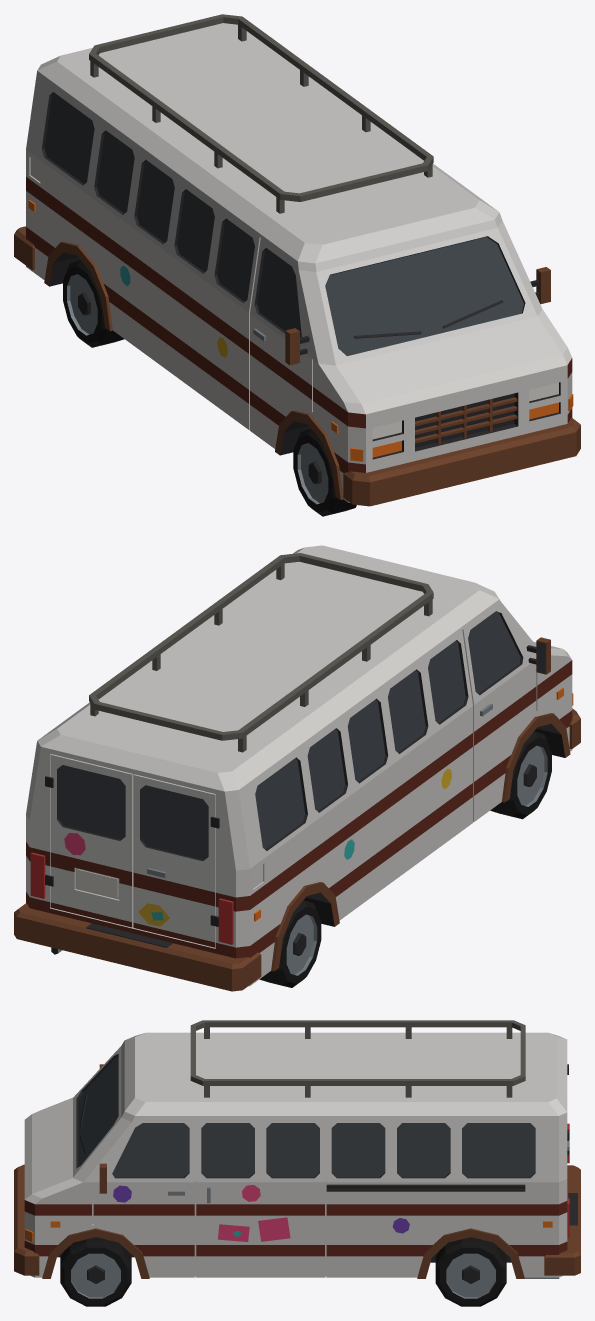
The model's file is skate-team-tour-van-fb3c89.glb.
3 renders of one model, top to bottom at view 1: azimuth 30°, elevation 25°; view 2: azimuth 150°, elevation 25°; view 3: azimuth 270°, elevation 25°, orthographic. The views are drawn at different scales.
Parts seen in each view (by area): view 1: skate-team-tour-van-fb3c89; view 2: skate-team-tour-van-fb3c89; view 3: skate-team-tour-van-fb3c89.
Part boxes in pixels (x1=…): skate-team-tour-van-fb3c89: x1=14, y1=14, x2=580, y2=516; skate-team-tour-van-fb3c89: x1=14, y1=545, x2=580, y2=991; skate-team-tour-van-fb3c89: x1=14, y1=1020, x2=580, y2=1306.
Size of the model in its own units: 2.33 by 2.24 by 5.39.
